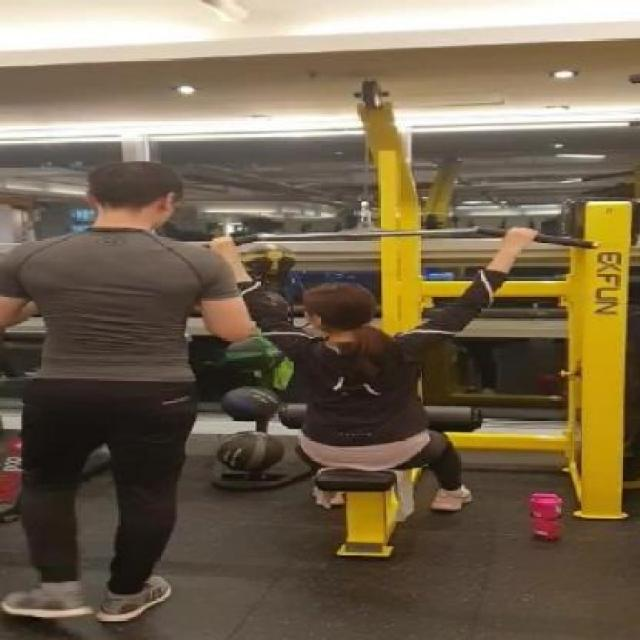Lat Pull Down: (118, 68, 640, 569)
